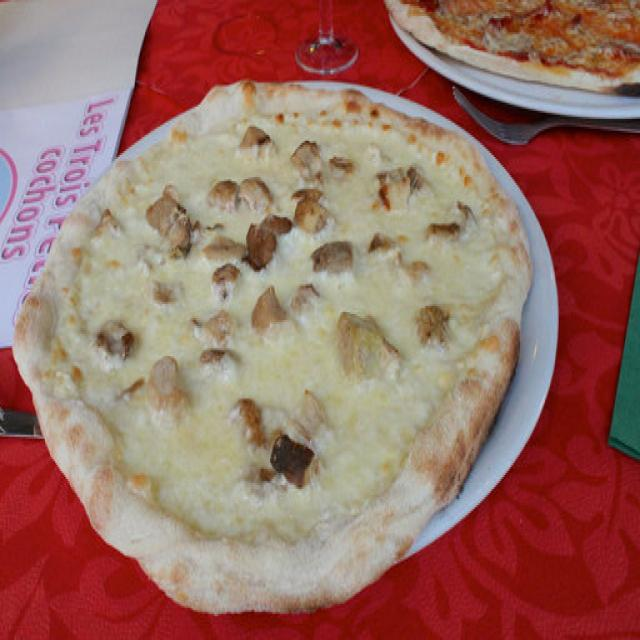Beef: (342, 310, 386, 370), (146, 195, 194, 247), (212, 174, 269, 214), (274, 434, 318, 484), (146, 356, 183, 410), (94, 320, 134, 366), (311, 240, 353, 274), (247, 219, 274, 270), (240, 125, 276, 159), (254, 289, 283, 330), (289, 142, 320, 180), (296, 187, 324, 228), (380, 171, 417, 202), (419, 304, 448, 341), (217, 267, 241, 293)
Cheese: (156, 446, 240, 515), (102, 260, 162, 310), (266, 353, 334, 396), (336, 418, 396, 462), (367, 273, 397, 301)
Pizza: (19, 77, 534, 614), (386, 0, 640, 93)
